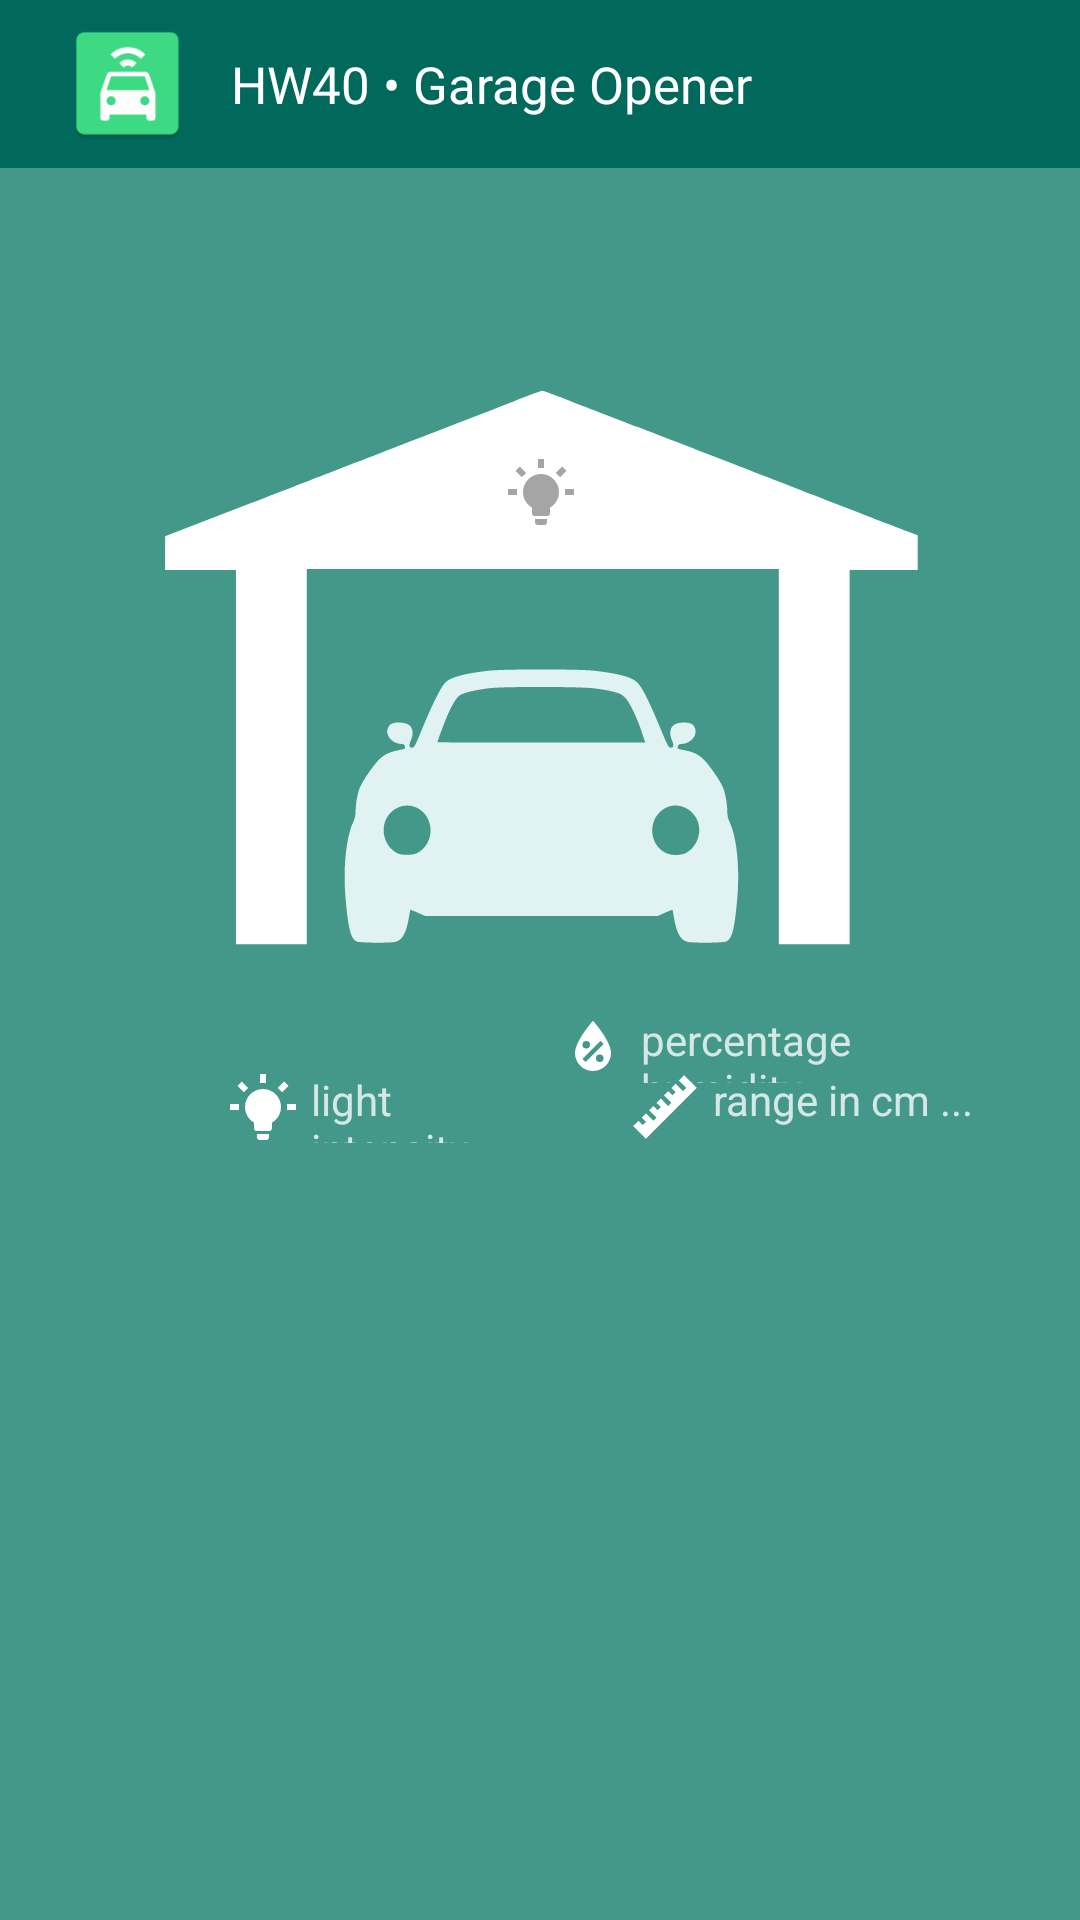

Screen size 1080*1920. Icon name, then its center in pixels as (x,y):
ruler: (667,1106)
water percent: (593,1046)
